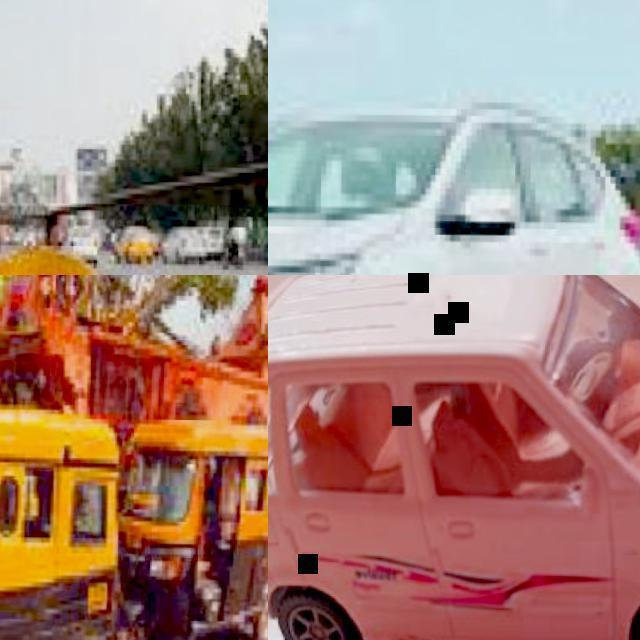car: (144, 0, 636, 639)
